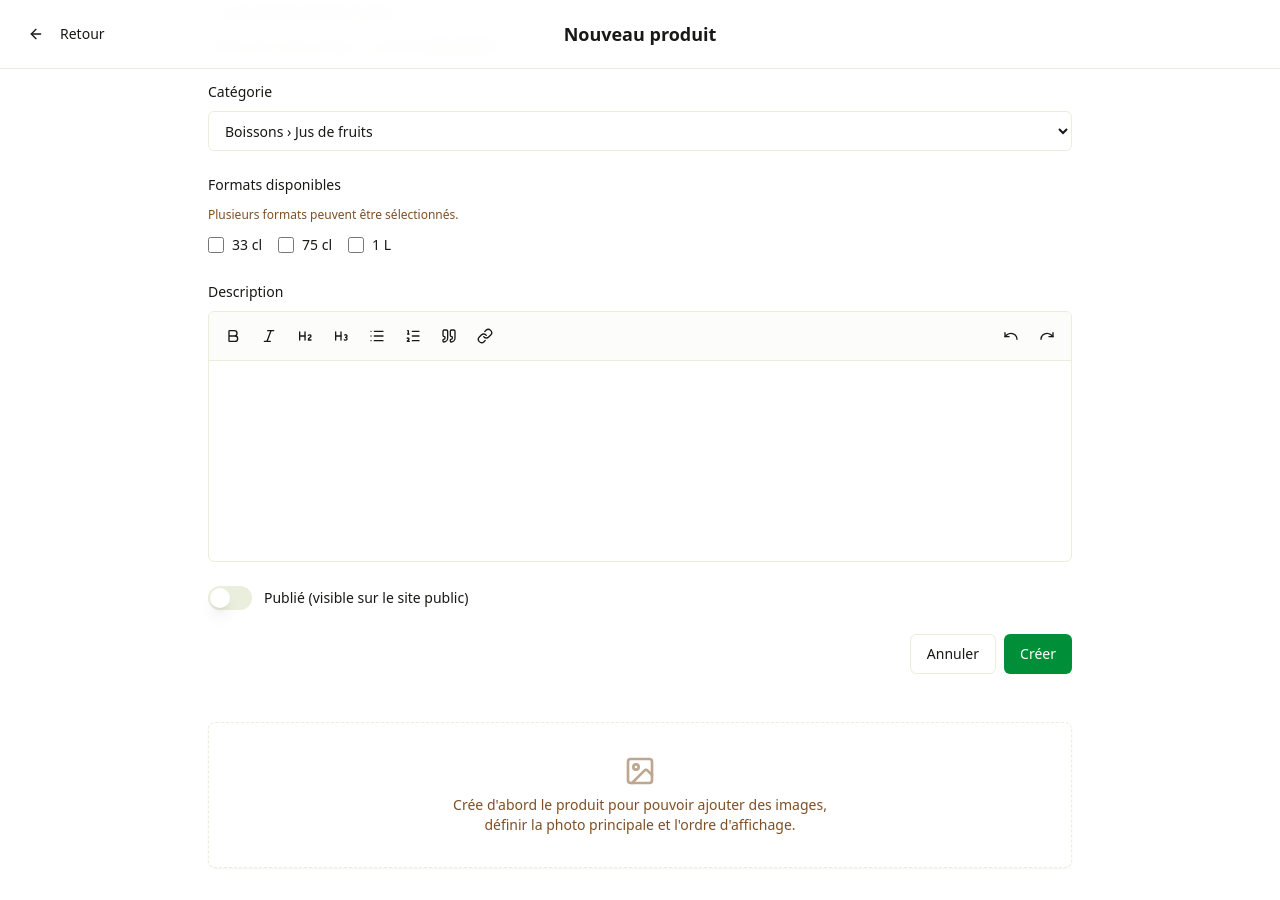
Test: Admin ProductForm — mode création › soumission sans titre → erreur zod, pas d'appel réseau
(page scrolled)
What coordinates should you click on to do the following:
click the button "Créer"
I would click on:
 (1038, 654)
Its box is [1004,634,1072,674].
(page scrolled)
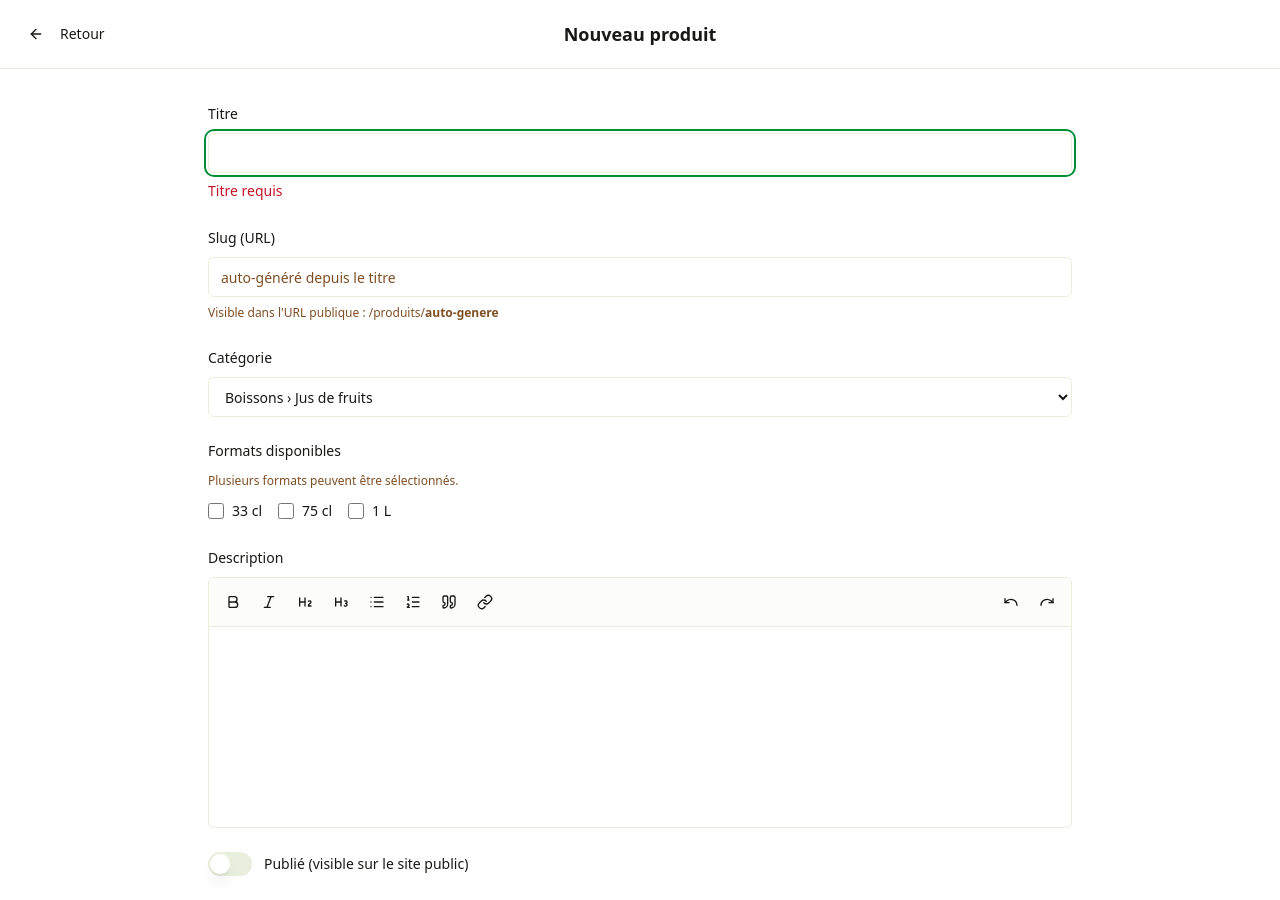
Expected: the text "Titre requis" is shown, [208,181,282,200]
